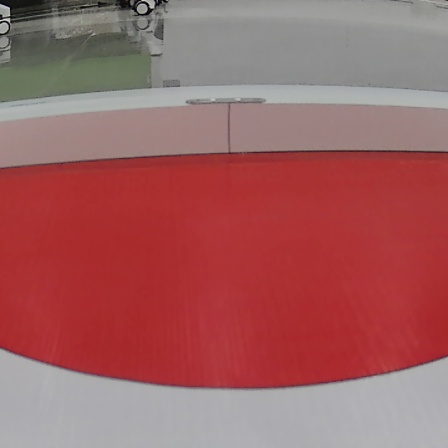red_base: (1, 146, 448, 394)
